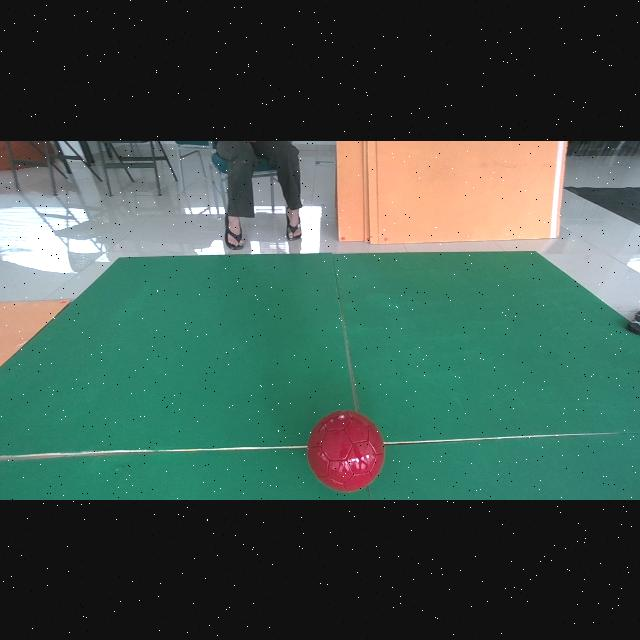R: (307, 409, 385, 491)
